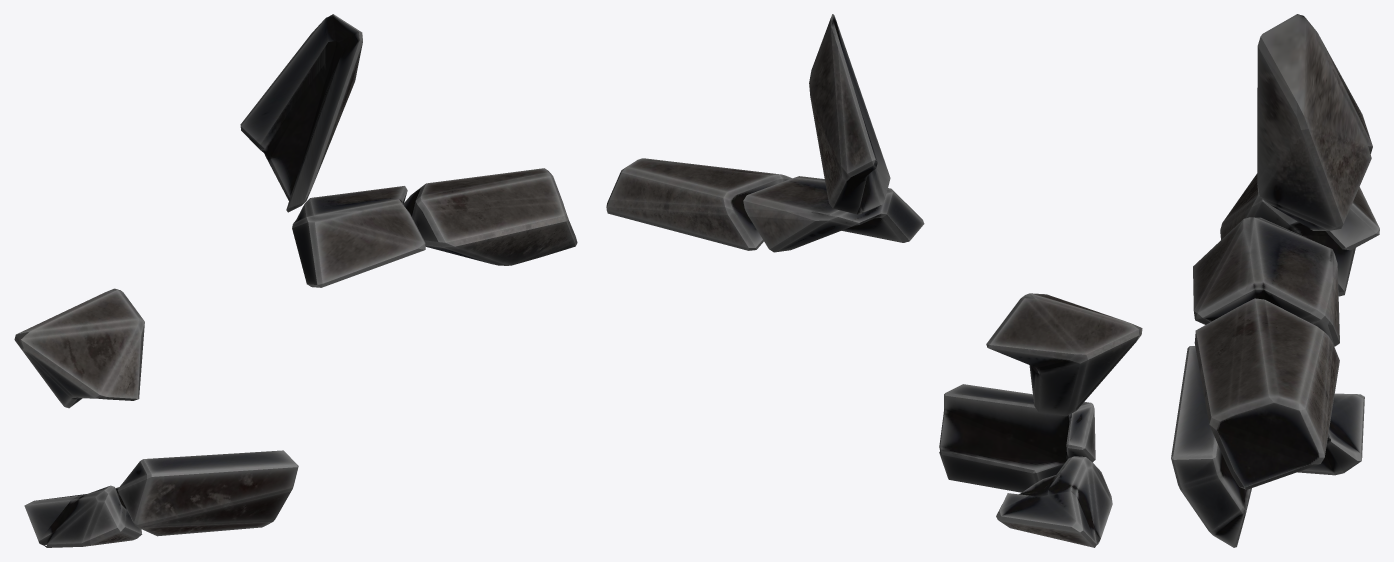
The model's file is summon-ice-shard.glb.
The picture shows the model from 3 angles, left to right: view 1: azimuth 30°, elevation 25°; view 2: azimuth 150°, elevation 25°; view 3: azimuth 270°, elevation 25°; orthographic projection. The views are drawn at different scales.
Parts seen in each view (by area): view 1: Gun_Rock.027_Gun_Rock_0; view 2: Gun_Rock.027_Gun_Rock_0; view 3: Gun_Rock.027_Gun_Rock_0.
Boxes of the visible parts, x1=… form: Gun_Rock.027_Gun_Rock_0: x1=14, y1=14, x2=577, y2=547; Gun_Rock.027_Gun_Rock_0: x1=606, y1=14, x2=1142, y2=547; Gun_Rock.027_Gun_Rock_0: x1=1171, y1=14, x2=1379, y2=547.
Size of the model in its own units: 0.4999 by 0.4158 by 0.1328.
1 material, 1 textured.
